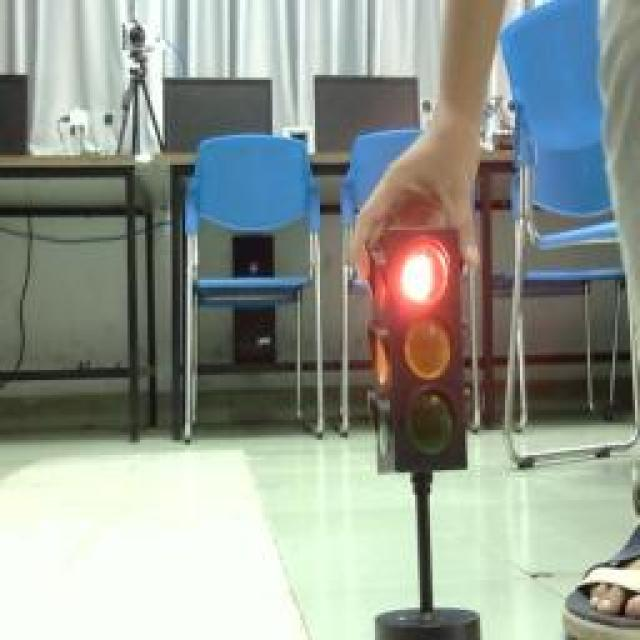-: (397, 237, 457, 307)
